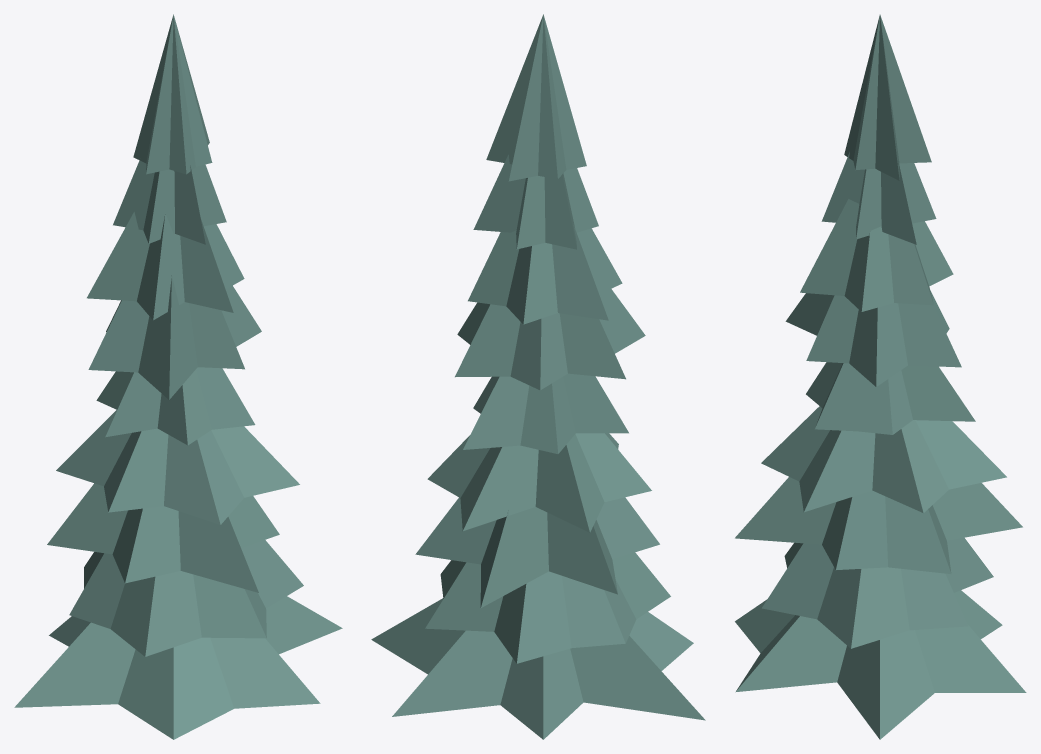
The model's file is juniper-bush.glb.
The picture shows the model from 3 angles, left to right: view 1: azimuth 30°, elevation 25°; view 2: azimuth 150°, elevation 25°; view 3: azimuth 270°, elevation 25°; orthographic projection. The views are drawn at different scales.
Parts seen in each view (by area): view 1: juniper-bush; view 2: juniper-bush; view 3: juniper-bush.
Boxes of the visible parts, <box> form: juniper-bush: <box>14,14,342,739</box>; juniper-bush: <box>371,14,705,739</box>; juniper-bush: <box>735,14,1026,739</box>.
Bounding box in the file's own units: 1.36 × 2.58 × 1.06.
